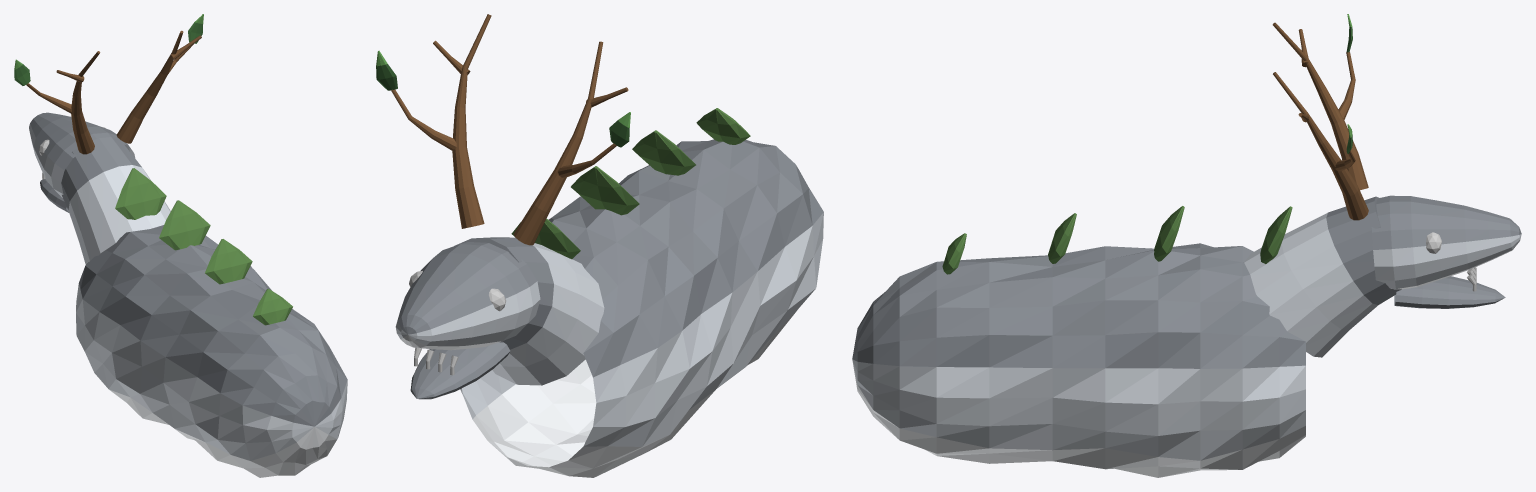
Rendered from CreatureStalker.obj.
3 renders of one model, left to right at view 1: azimuth 30°, elevation 25°; view 2: azimuth 150°, elevation 25°; view 3: azimuth 270°, elevation 25°, orthographic. The views are drawn at different scales.
Bounding box in the file's own units: 2.5 × 4.41 × 6.35.
